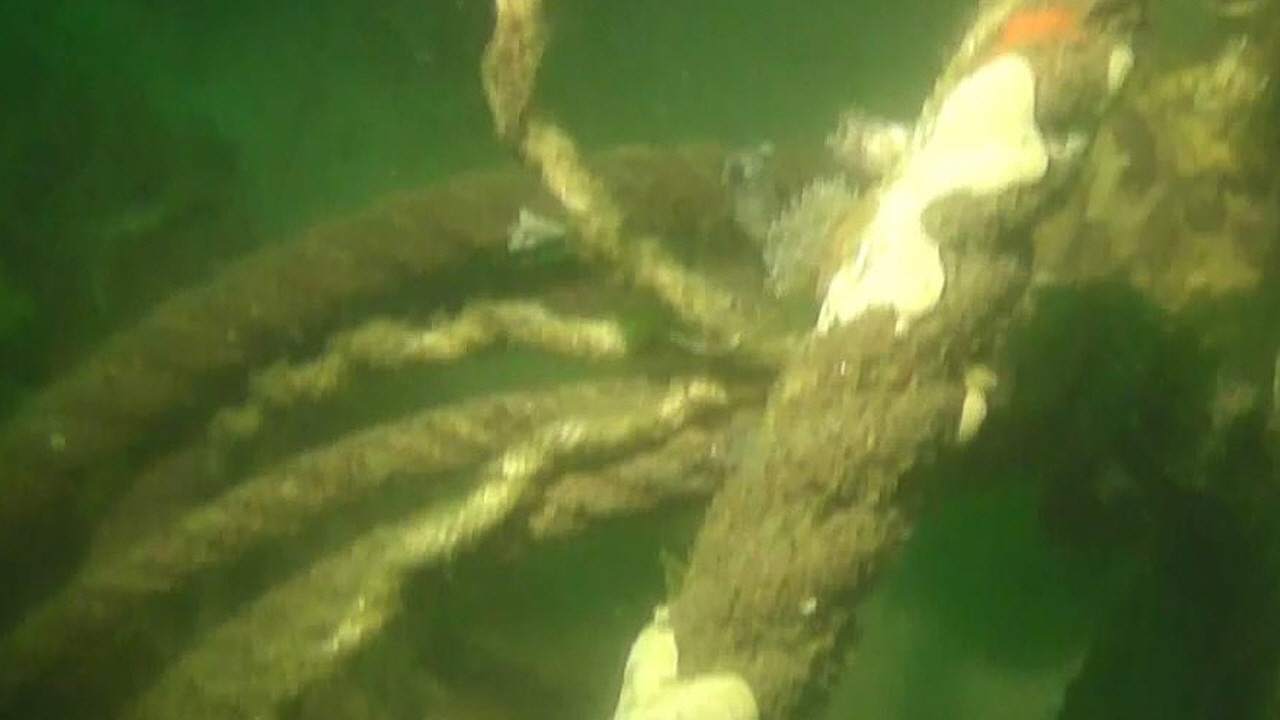bundle of ropes: (0, 0, 1147, 720)
